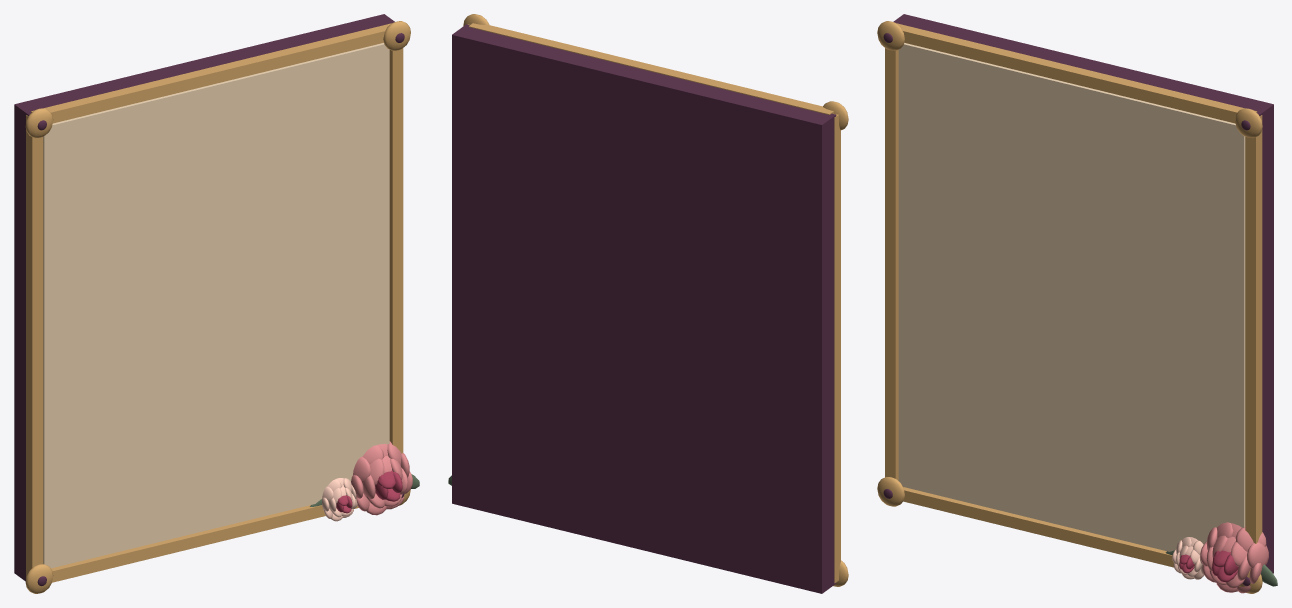
File: frame.glb
3 views of the same model, side by side, from view 1: azimuth 30°, elevation 25°; view 2: azimuth 150°, elevation 25°; view 3: azimuth 330°, elevation 25° (orthographic).
Parts seen in each view (by area): view 1: Keepsake frame; view 2: Keepsake frame; view 3: Keepsake frame.
Boxes of the visible parts, <box> form: Keepsake frame: <box>14,14,419,593</box>; Keepsake frame: <box>448,14,848,593</box>; Keepsake frame: <box>877,14,1277,593</box>.
Bounding box in the file's own units: 2.55 × 3 × 0.3661.
